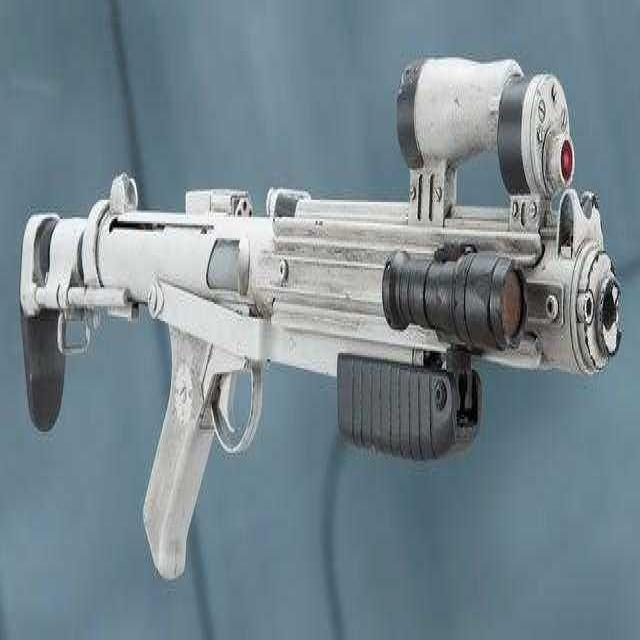weapon: (16, 46, 630, 568)
